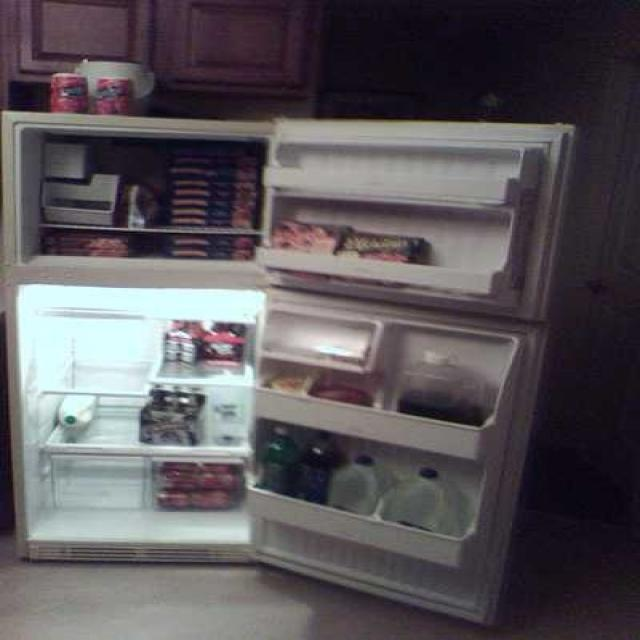refrigerator: (0, 113, 513, 594)
